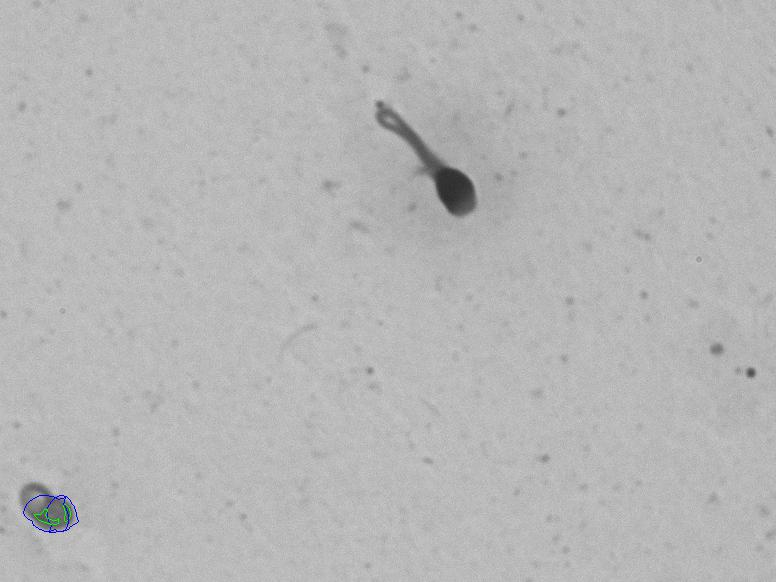Abnormal: (337, 102, 566, 261)
